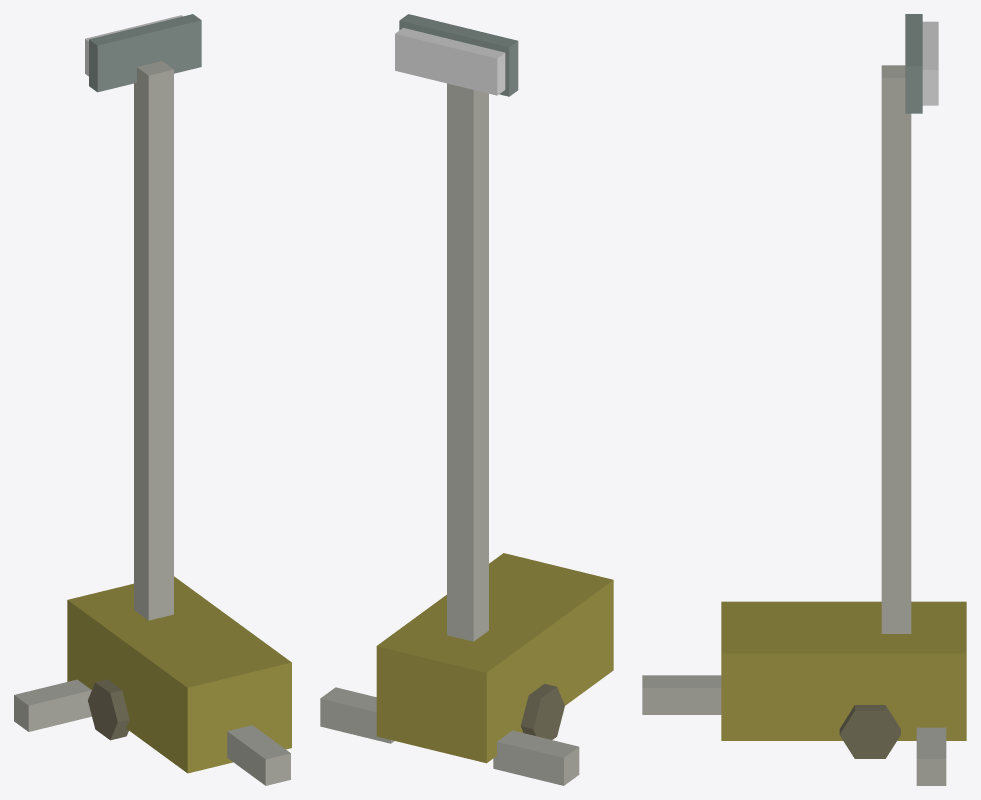
File: SM_TorreLuz_v2_Cable_LOD1.fbx
3 renders of one model, left to right at view 1: azimuth 30°, elevation 25°; view 2: azimuth 150°, elevation 25°; view 3: azimuth 270°, elevation 25°, orthographic. The views are drawn at different scales.
Parts seen in each view (by area): view 1: SM_ambiente_aerodromo_v17_LOD1; view 2: SM_ambiente_aerodromo_v17_LOD1; view 3: SM_ambiente_aerodromo_v17_LOD1.
Part boxes in pixels (bbox=[...]): SM_ambiente_aerodromo_v17_LOD1: bbox=[14, 14, 291, 785]; SM_ambiente_aerodromo_v17_LOD1: bbox=[320, 14, 613, 785]; SM_ambiente_aerodromo_v17_LOD1: bbox=[642, 14, 966, 785].
Bounding box in the file's own units: 3.1 × 8.67 × 3.7.
